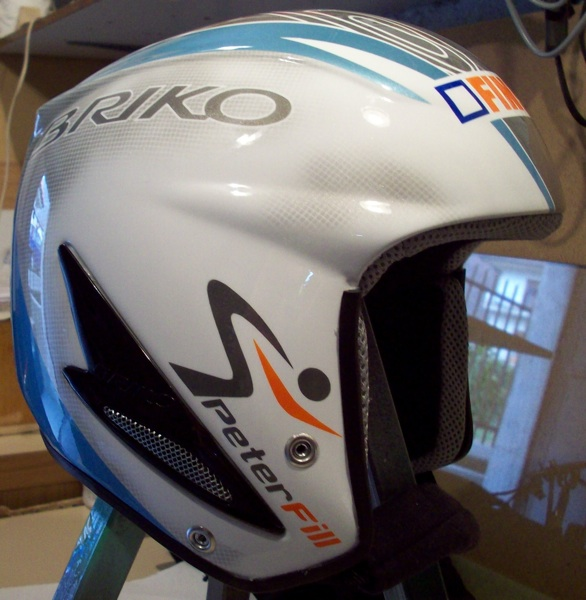helmet: (22, 5, 569, 567)
